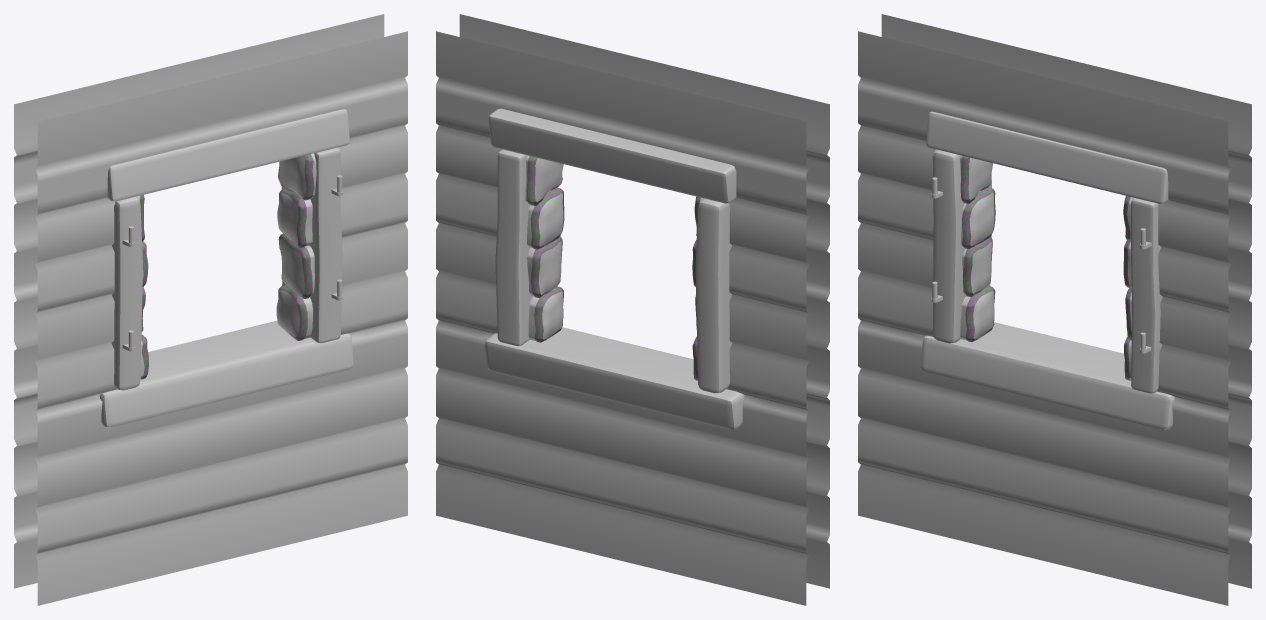
Rendered from SM_wallWindow2m_a1.fbx.
The picture shows the model from 3 angles, left to right: view 1: azimuth 30°, elevation 25°; view 2: azimuth 150°, elevation 25°; view 3: azimuth 330°, elevation 25°; orthographic projection.
Parts seen in each view (by area): view 1: SM_wallWindow2m_a1_LOD0; view 2: SM_wallWindow2m_a1_LOD0; view 3: SM_wallWindow2m_a1_LOD0.
Boxes of the visible parts, left/top/right/bottom form: SM_wallWindow2m_a1_LOD0: left=14, top=14, right=407, bottom=605; SM_wallWindow2m_a1_LOD0: left=436, top=14, right=829, bottom=605; SM_wallWindow2m_a1_LOD0: left=858, top=14, right=1251, bottom=605.
Size of the model in its own units: 200 by 41.13 by 250.
Materials: 3 (1 with a texture image).
